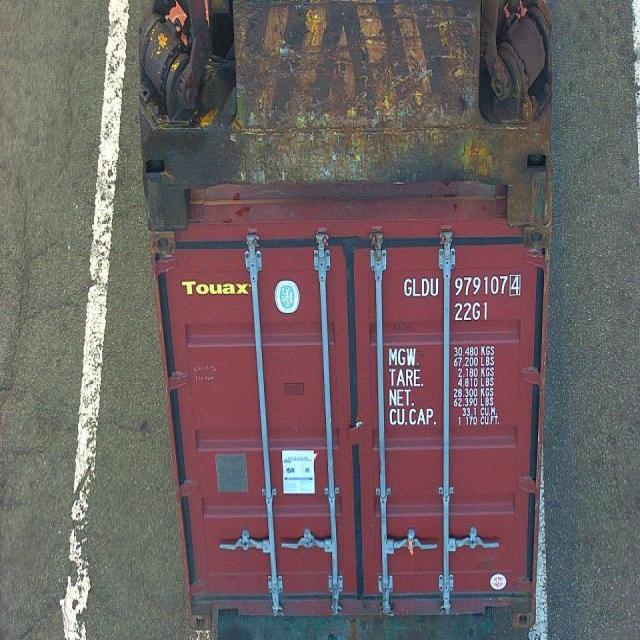ISO: (454, 300, 490, 320)
container_number: (402, 276, 526, 298)
